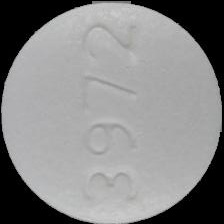64205-211: (0, 0, 224, 224)
